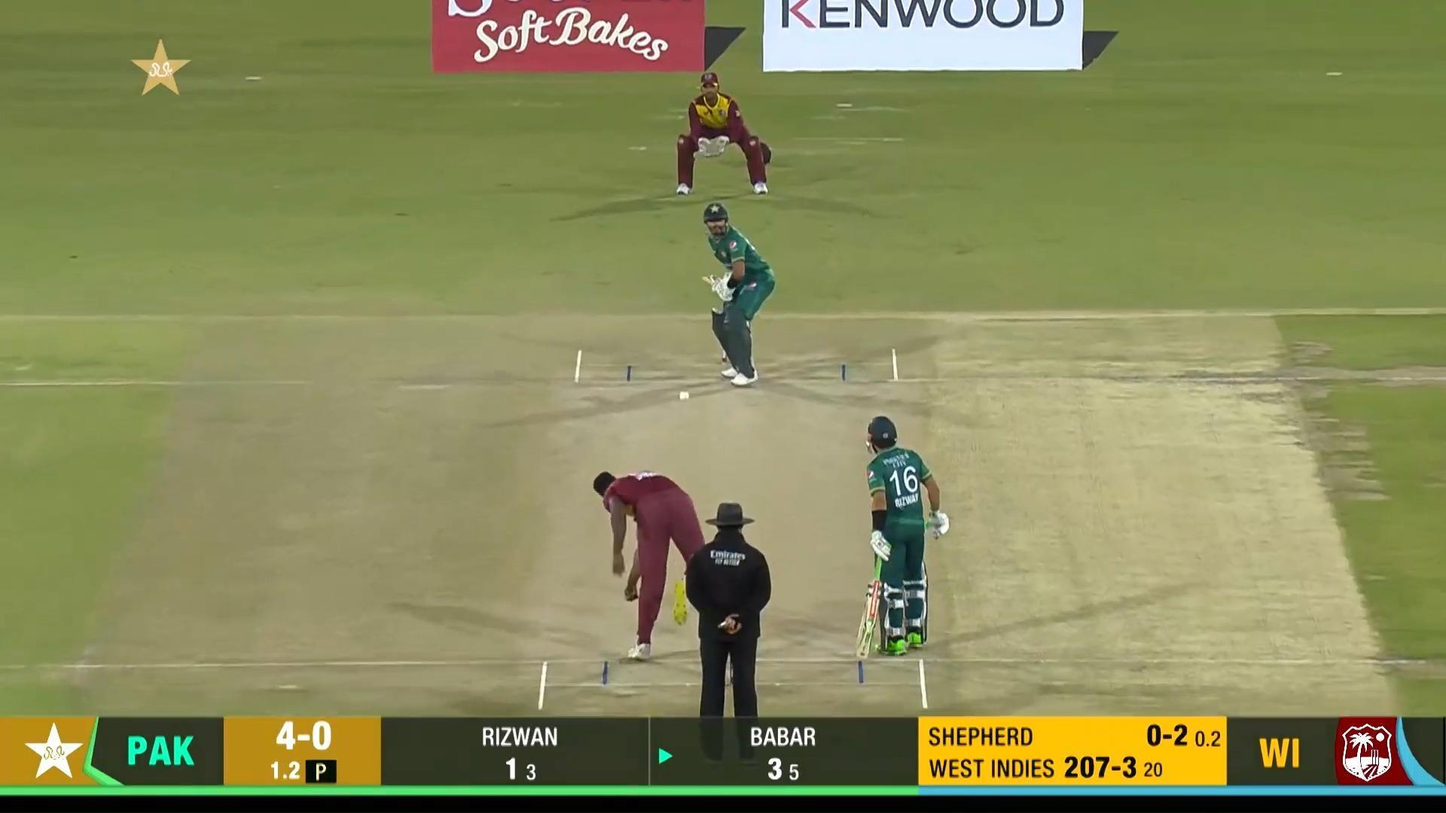BM 1: (700, 201, 776, 387)
BO: (592, 469, 716, 662)
